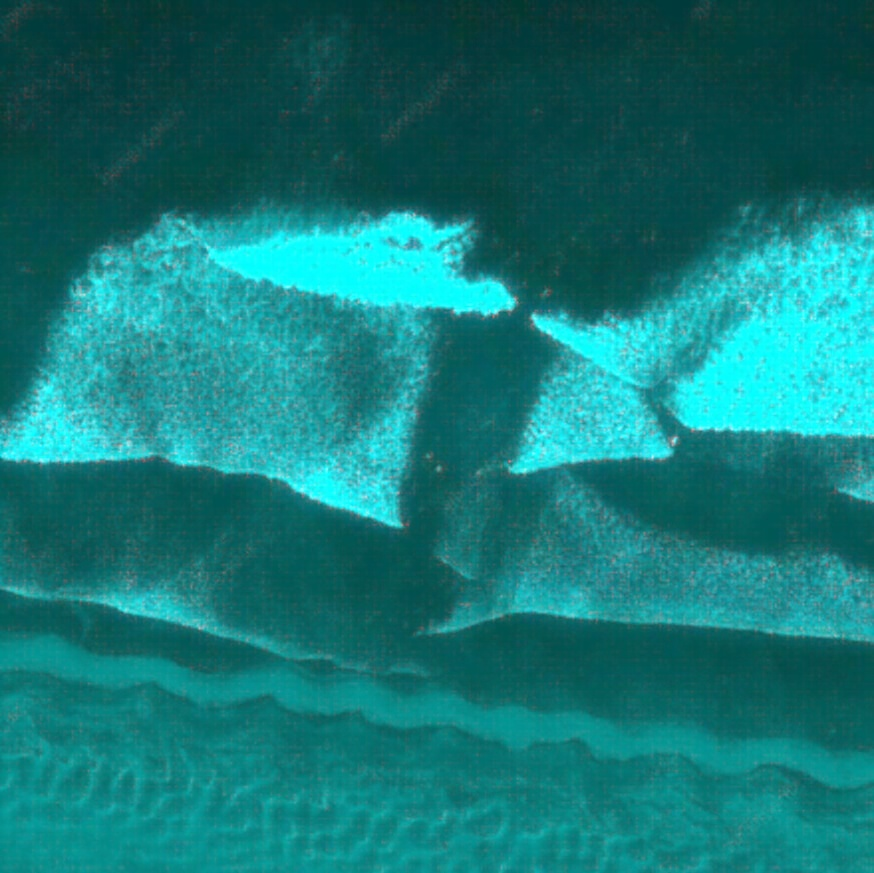rip_current: (335, 175, 623, 669)
